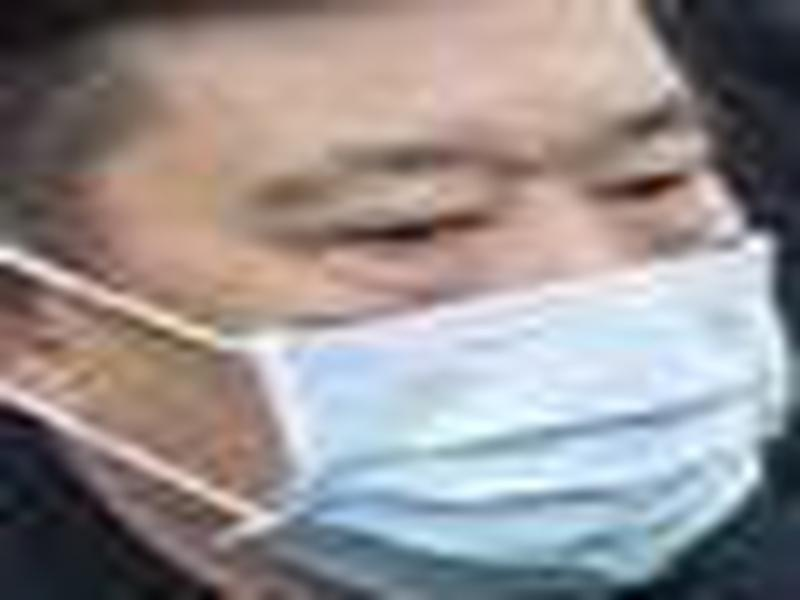with_mask: (3, 1, 790, 599)
